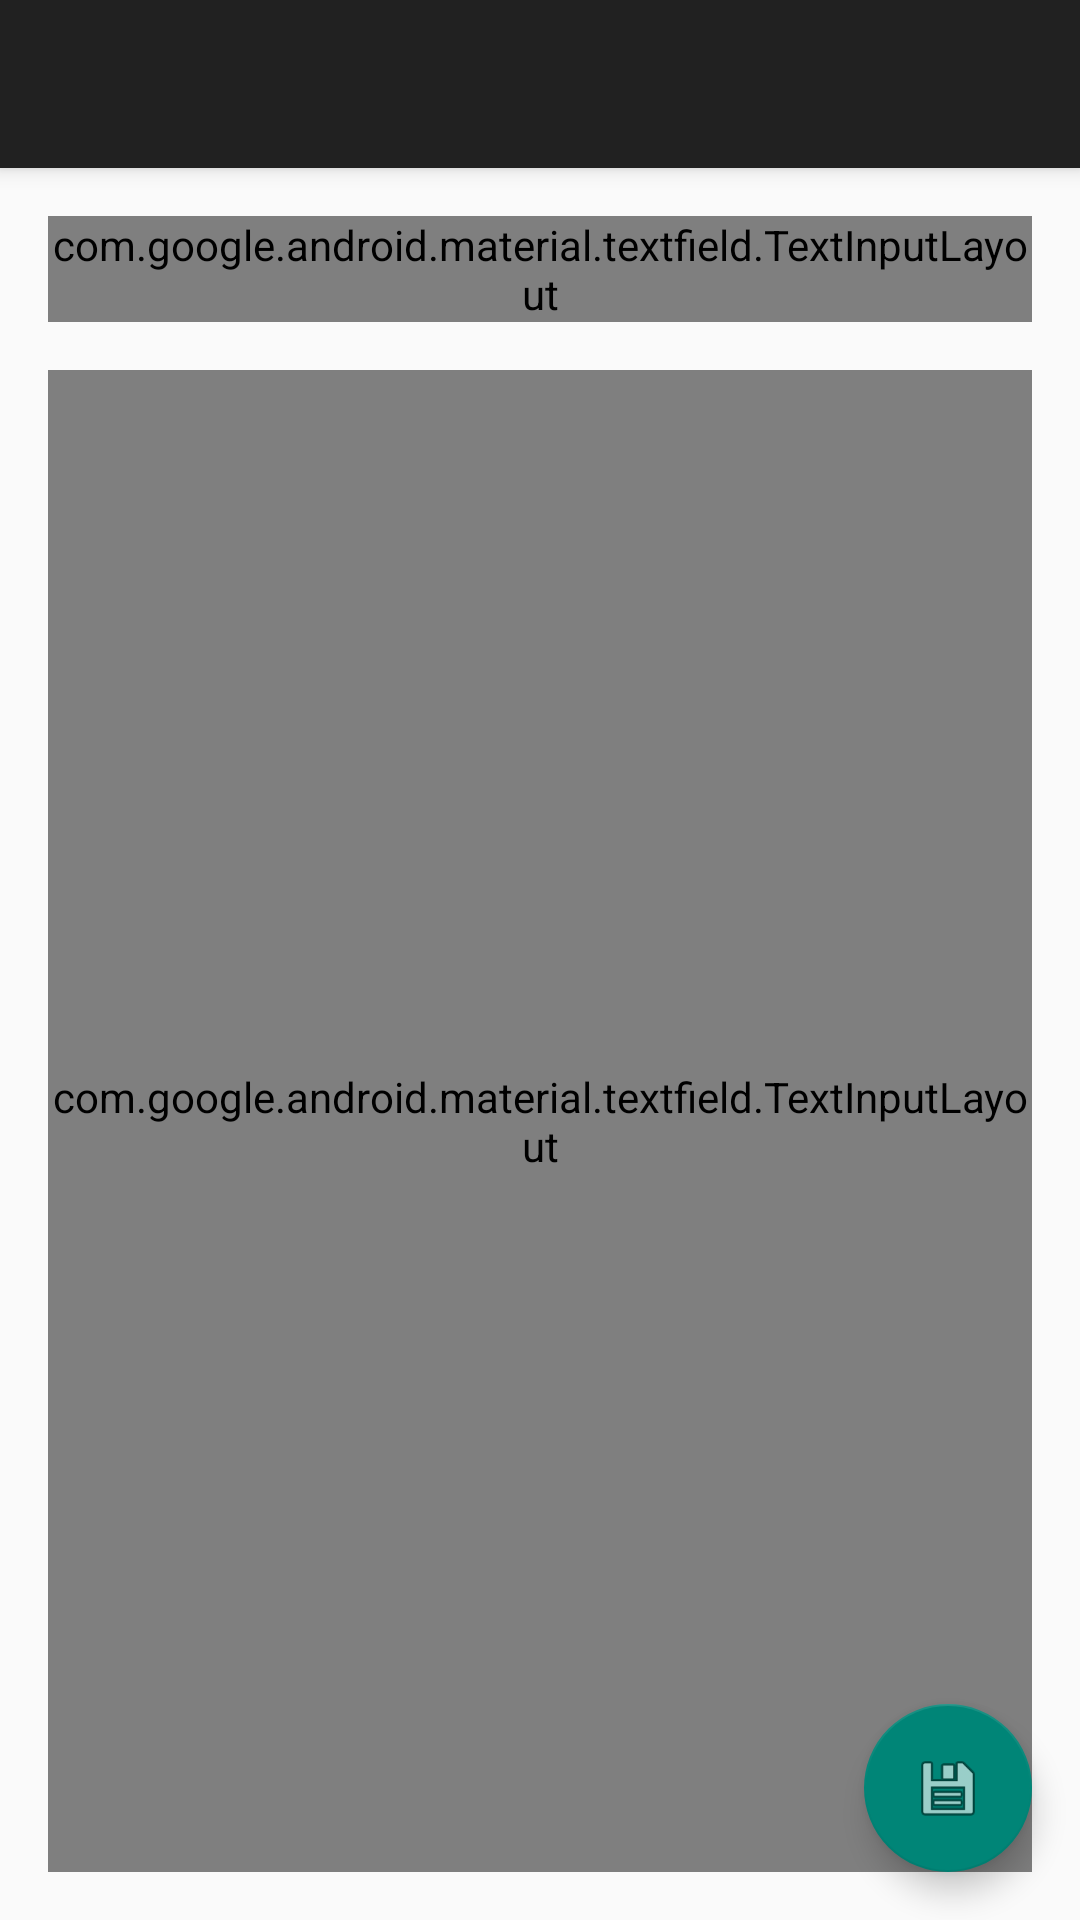

Screen size 1080*1920. Icon name, then its center in pixels as (x,y):
Save note: (948,1788)
